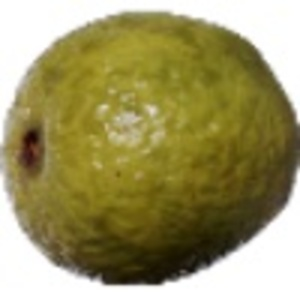goiaba: (3, 7, 295, 287)
